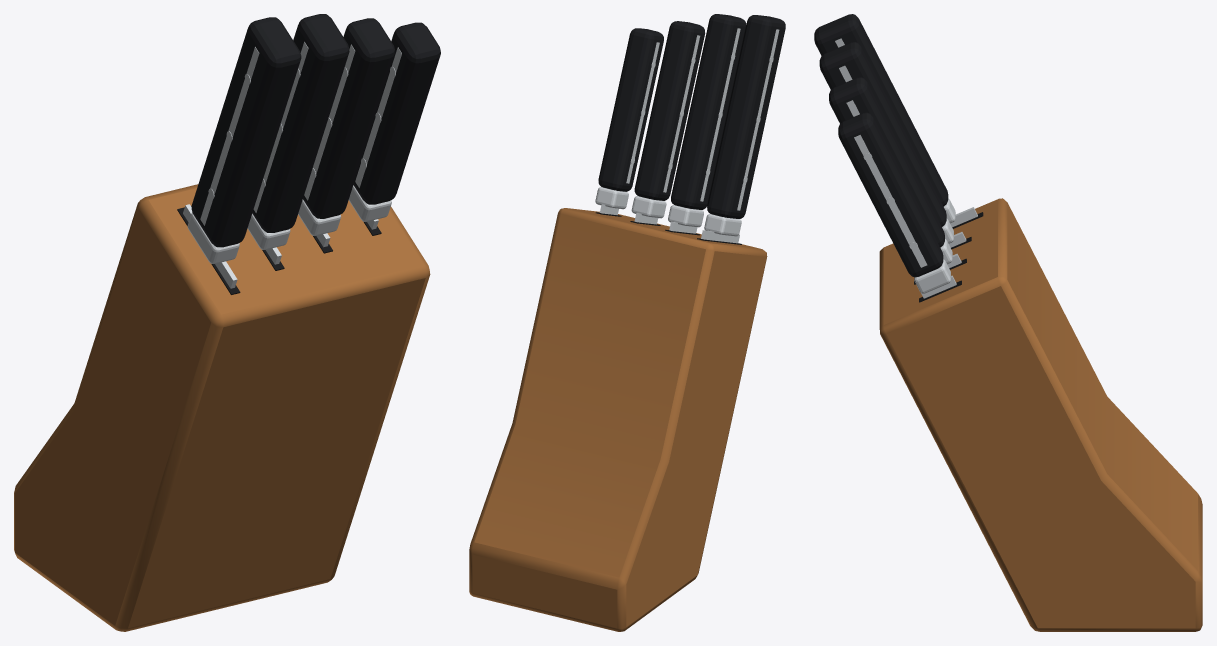
File: item-33.glb
3 views of the same model, side by side, from view 1: azimuth 30°, elevation 25°; view 2: azimuth 150°, elevation 25°; view 3: azimuth 270°, elevation 25° (orthographic). The views are drawn at different scales.
Visible parts, largest first — view 1: block, grip, grip.001, grip.002, grip.003, tang, bolster, tang.003, tang.002, bolster.003, tang.001, bolster.002 (+1 smaller); view 2: block, grip, grip.001, grip.002, grip.003, bolster, tang, tang.001, bolster.001, bolster.002, bolster.003, tang.002 (+1 smaller); view 3: block, grip.003, grip.001, grip, grip.002, tang.003, bolster.003.
Part boxes in pixels (x1,y1,x2,y2): block: (14,184,430,631); grip: (191,17,301,247); grip.001: (252,14,349,232); grip.002: (303,18,395,218); grip.003: (353,22,440,204); tang: (200,47,259,225); bolster: (187,212,239,263); tang.003: (355,47,401,187); tang.002: (304,44,355,200); bolster.003: (348,185,391,221); tang.001: (253,42,308,212); bolster.002: (298,199,341,235); block: (469,208,767,631); grip: (707,15,785,218); grip.001: (671,14,746,209); grip.002: (634,21,705,200); grip.003: (598,28,663,191); bolster: (704,214,741,236); tang: (737,29,779,210); tang.001: (700,28,740,201); bolster.001: (668,205,703,227); bolster.002: (631,196,666,218); bolster.003: (595,187,628,209); tang.002: (663,35,700,192); block: (879,198,1202,631); grip.003: (838,112,943,277); grip.001: (819,42,946,226); grip: (814,14,948,206); grip.002: (829,77,944,247); tang.003: (854,135,927,267); bolster.003: (914,259,950,293).
Bounding box in the file's own units: 0.11 × 0.3338 × 0.2154.
